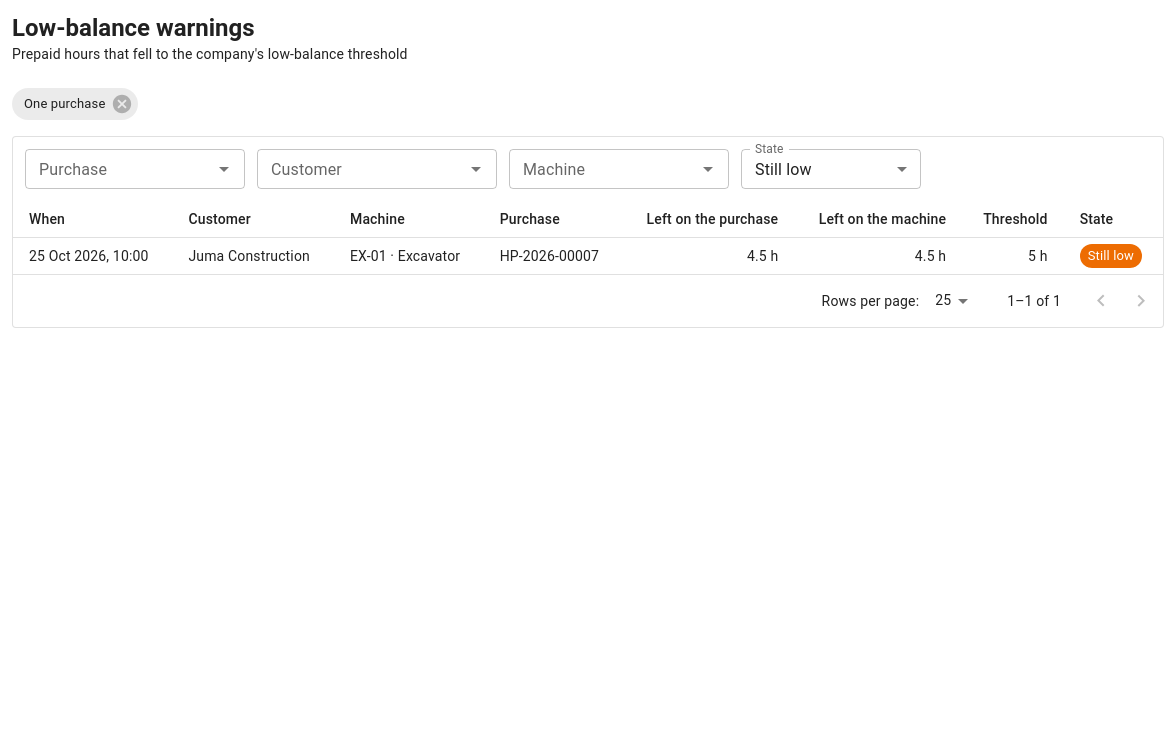
Scenario: Low-balance warnings › lists warnings with the purchase filter from the URL and opens one
The image size is (1176, 732).
Expected: the text "HP-2026-00007" is shown, x1=484 y1=238 x2=622 y2=274
Expected: the text "One purchase" is shown, x1=24 y1=96 x2=105 y2=111
Click the text "Juma Construction".
click(253, 256)  # box x1=172 y1=238 x2=334 y2=274
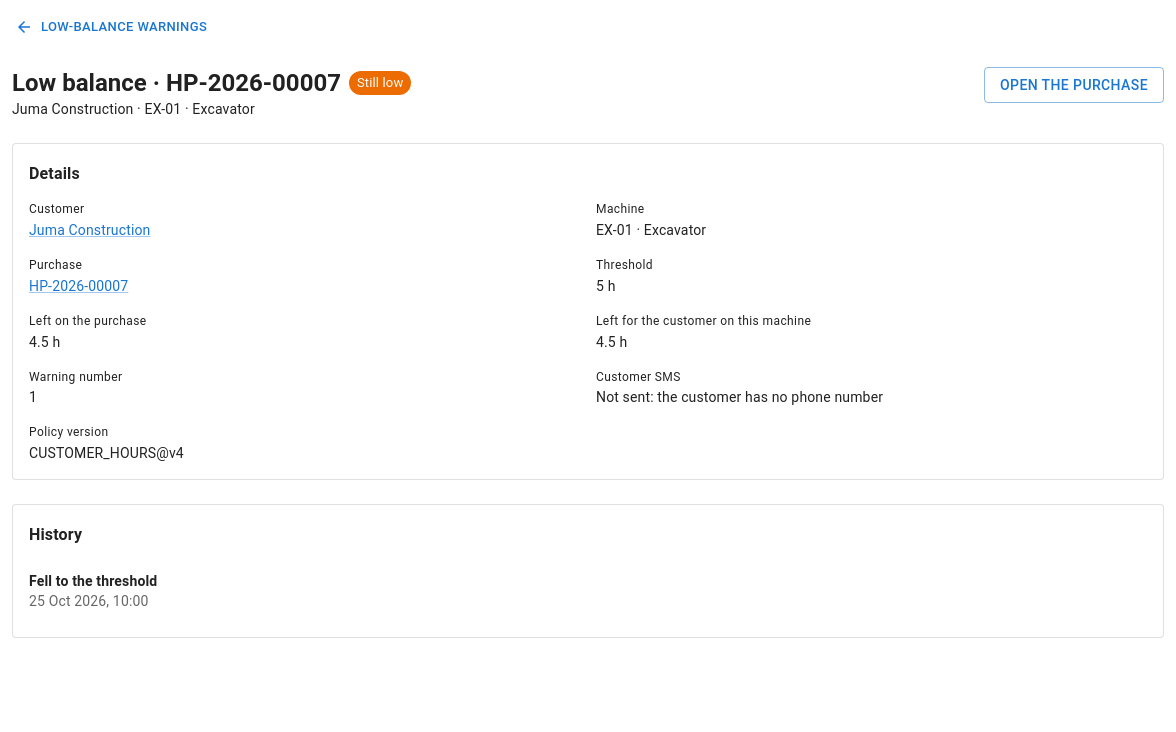
Now the heading "Low balance · HP-2026-00007" is shown, box x1=12 y1=67 x2=341 y2=99
Now the text "Not sent: the customer has no phone number" is shown, box x1=596 y1=390 x2=883 y2=406
